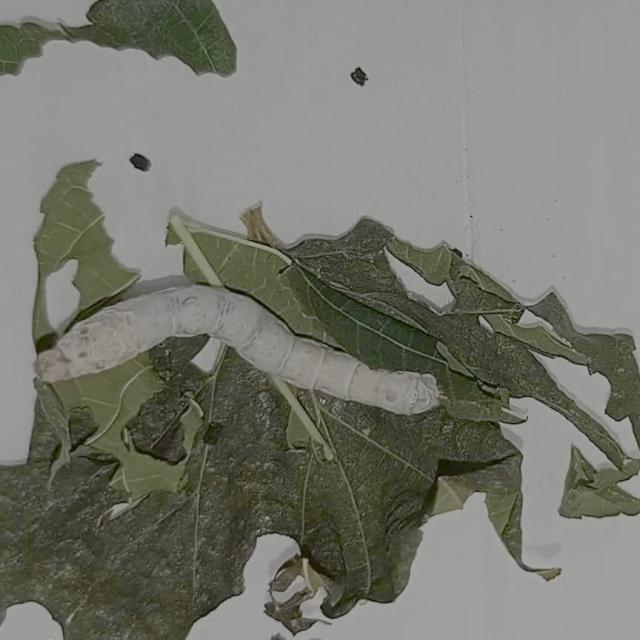Healthy: (25, 273, 453, 427)
